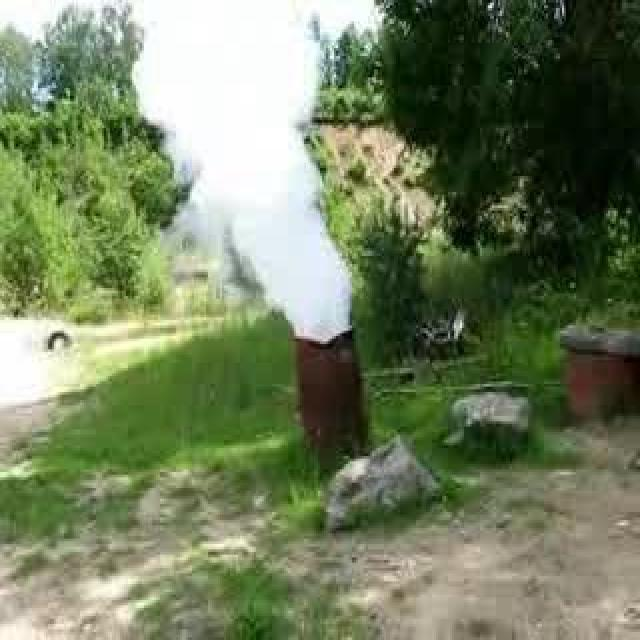Smoke: (127, 0, 385, 349)
